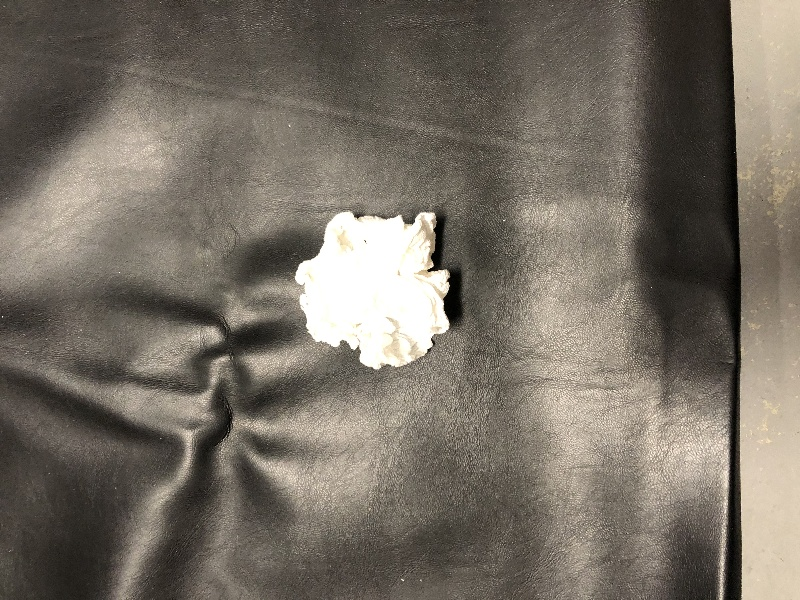paper: (285, 200, 490, 373)
